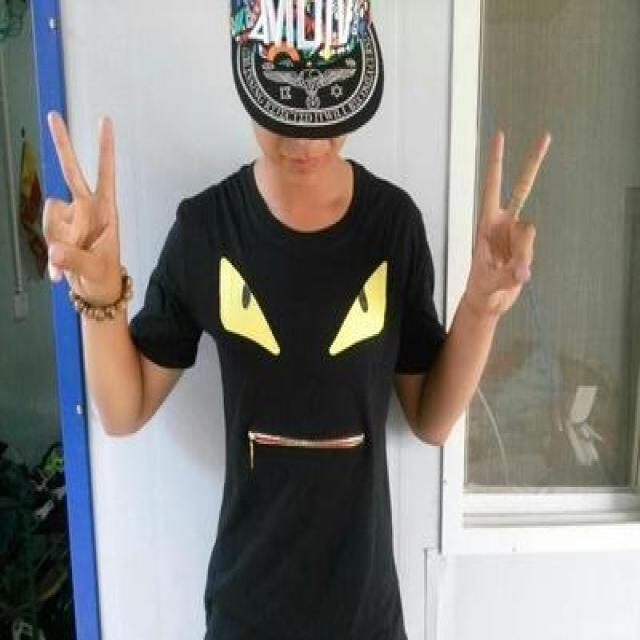short sleeve top: (130, 164, 451, 638)
